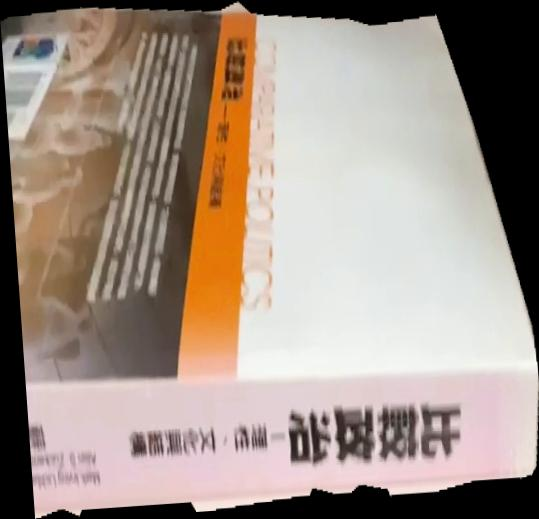flat: (1, 1, 539, 519)
